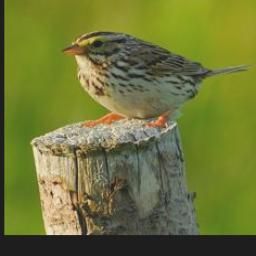Sparrow: (57, 29, 254, 130)
